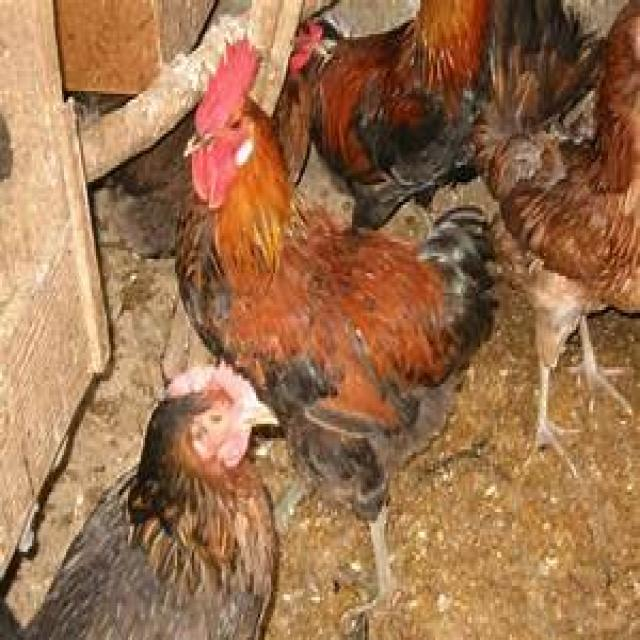chicken: (182, 38, 488, 589), (469, 0, 638, 478), (0, 358, 282, 638)
